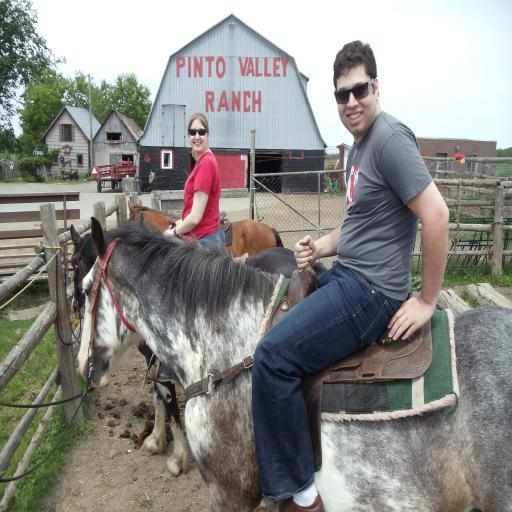horse: (78, 216, 512, 512), (70, 224, 328, 480), (126, 200, 286, 257)
